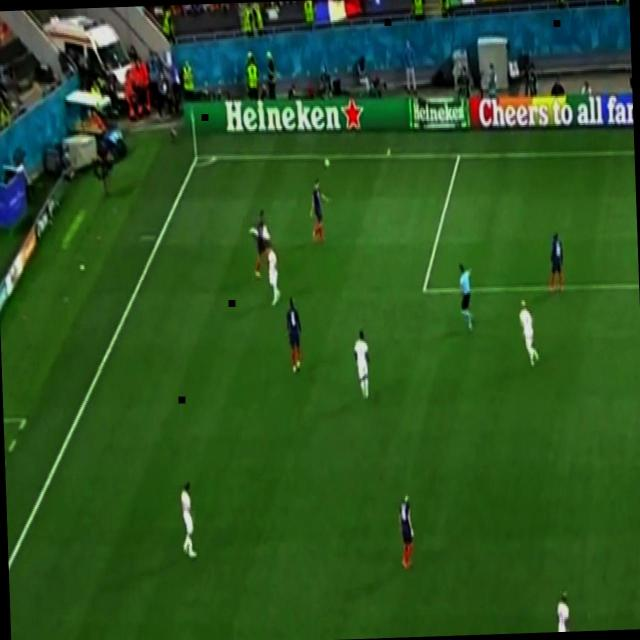player-white: (305, 174, 333, 251), (348, 324, 374, 406), (245, 204, 272, 281), (516, 293, 540, 372), (394, 486, 416, 572), (283, 293, 305, 379), (178, 477, 201, 559), (261, 238, 283, 310), (455, 258, 477, 329), (544, 226, 566, 294), (549, 583, 579, 632)
